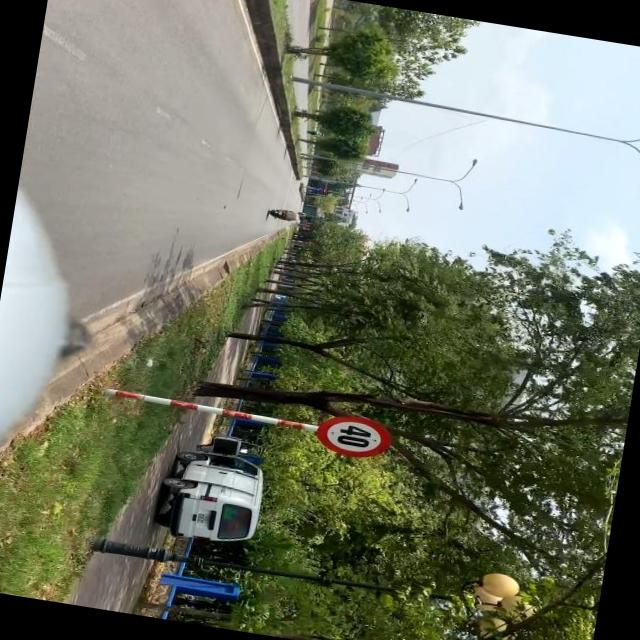P-127: (312, 409, 393, 462)
